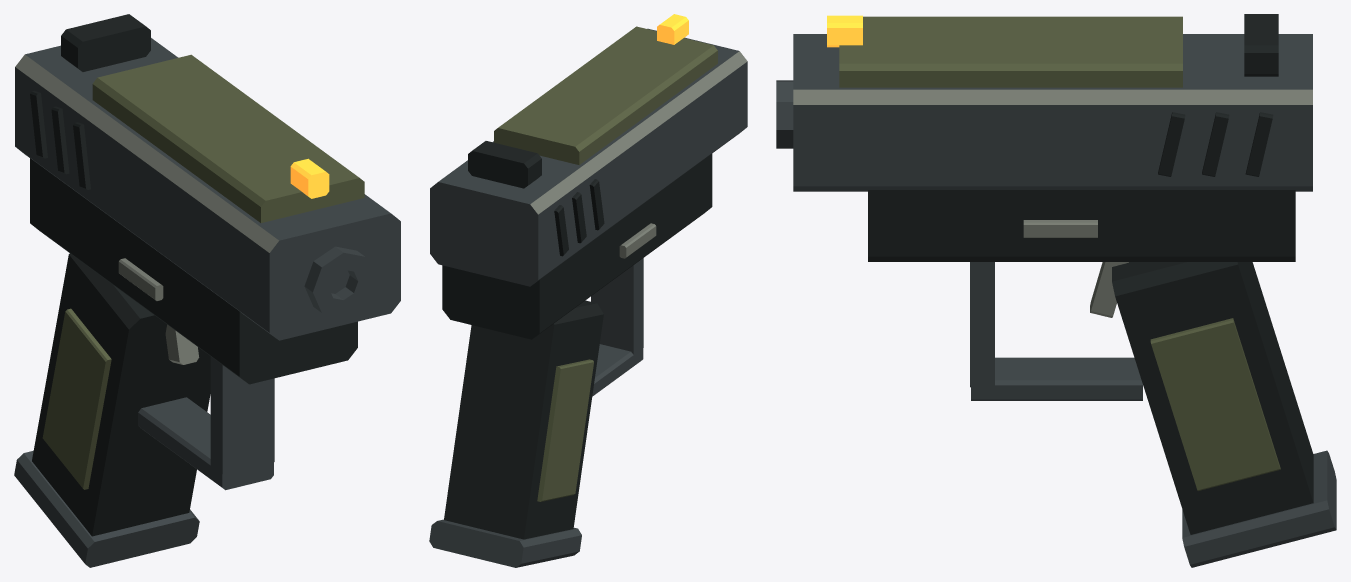
File: Pistol.gltf
3 renders of one model, left to right at view 1: azimuth 30°, elevation 25°; view 2: azimuth 150°, elevation 25°; view 3: azimuth 270°, elevation 25°, orthographic. The views are drawn at different scales.
Parts seen in each view (by area): view 1: Pistol; view 2: Pistol; view 3: Pistol.
Part boxes in pixels (<box>): Pistol: <box>14,14,400,567</box>; Pistol: <box>429,14,747,567</box>; Pistol: <box>776,14,1336,567</box>.
Bounding box in the file's own units: 0.087 × 0.3025 × 0.2935.
